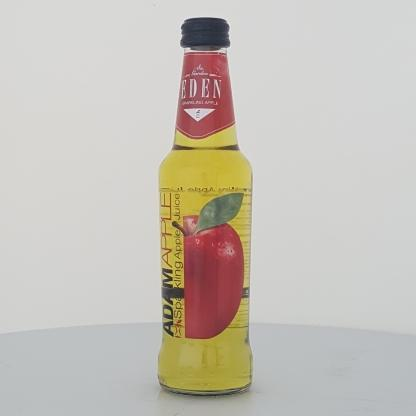----------------: (157, 35, 254, 416)
